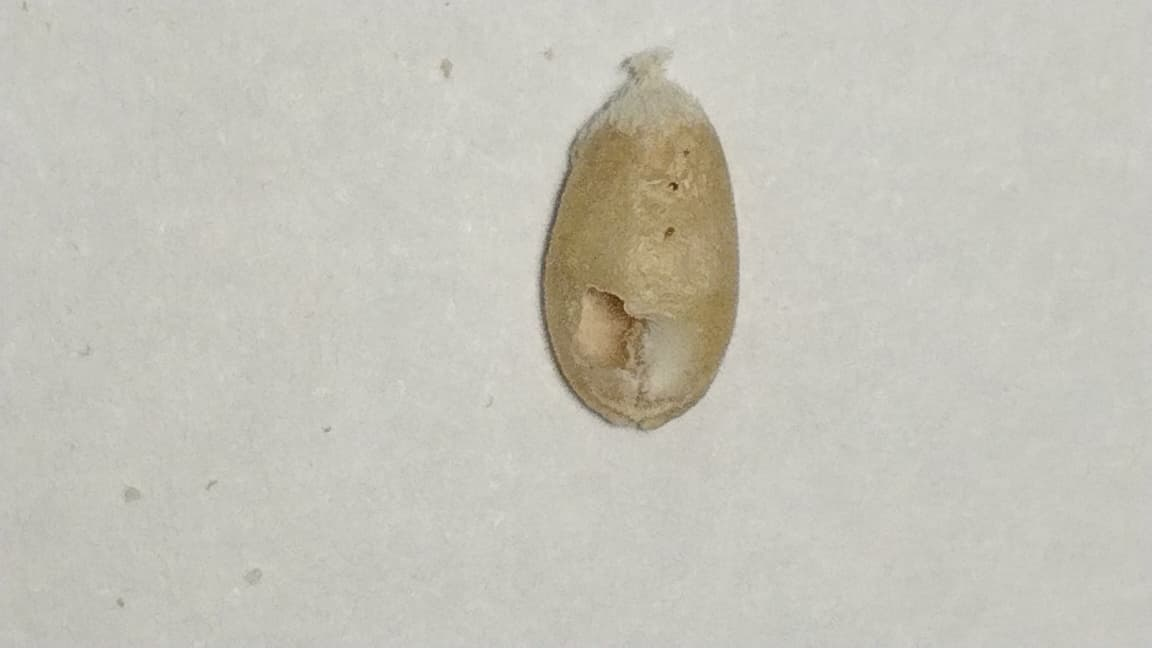damage: (538, 91, 740, 432)
insectdamage: (570, 274, 699, 429), (643, 159, 711, 260)
